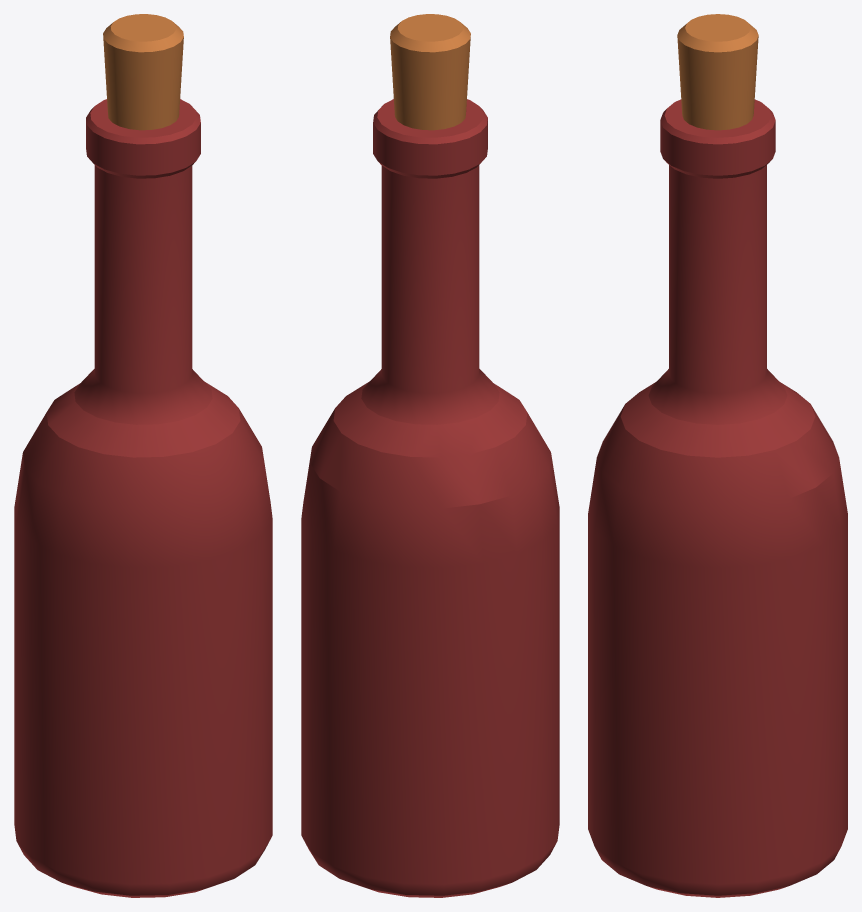
The model's file is Bottle_3.fbx.
The picture shows the model from 3 angles, left to right: view 1: azimuth 30°, elevation 25°; view 2: azimuth 150°, elevation 25°; view 3: azimuth 270°, elevation 25°; orthographic projection.
Visible parts, largest first — view 1: Bottle3; view 2: Bottle3; view 3: Bottle3.
Part boxes in pixels (left/top/right/bottom): Bottle3: left=14, top=14, right=272, bottom=897; Bottle3: left=301, top=14, right=559, bottom=897; Bottle3: left=588, top=14, right=847, bottom=897.
Size of the model in its own units: 51.74 by 182 by 51.74.
